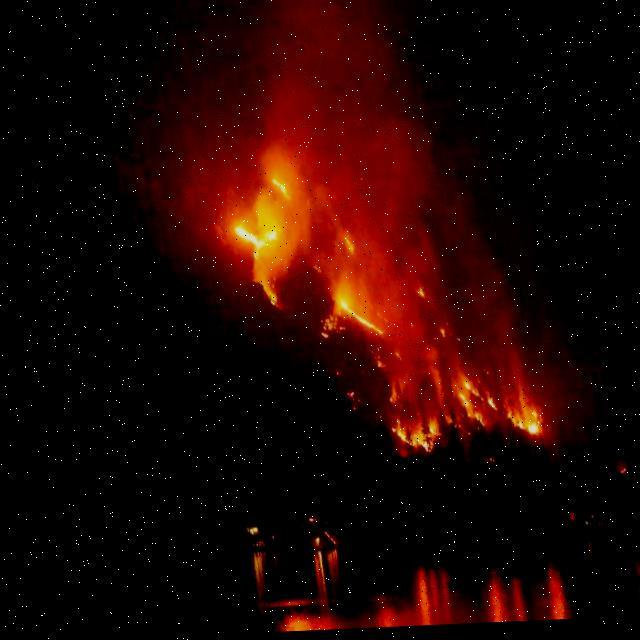Fire: (367, 357, 538, 453), (220, 169, 309, 279), (311, 231, 377, 344)
